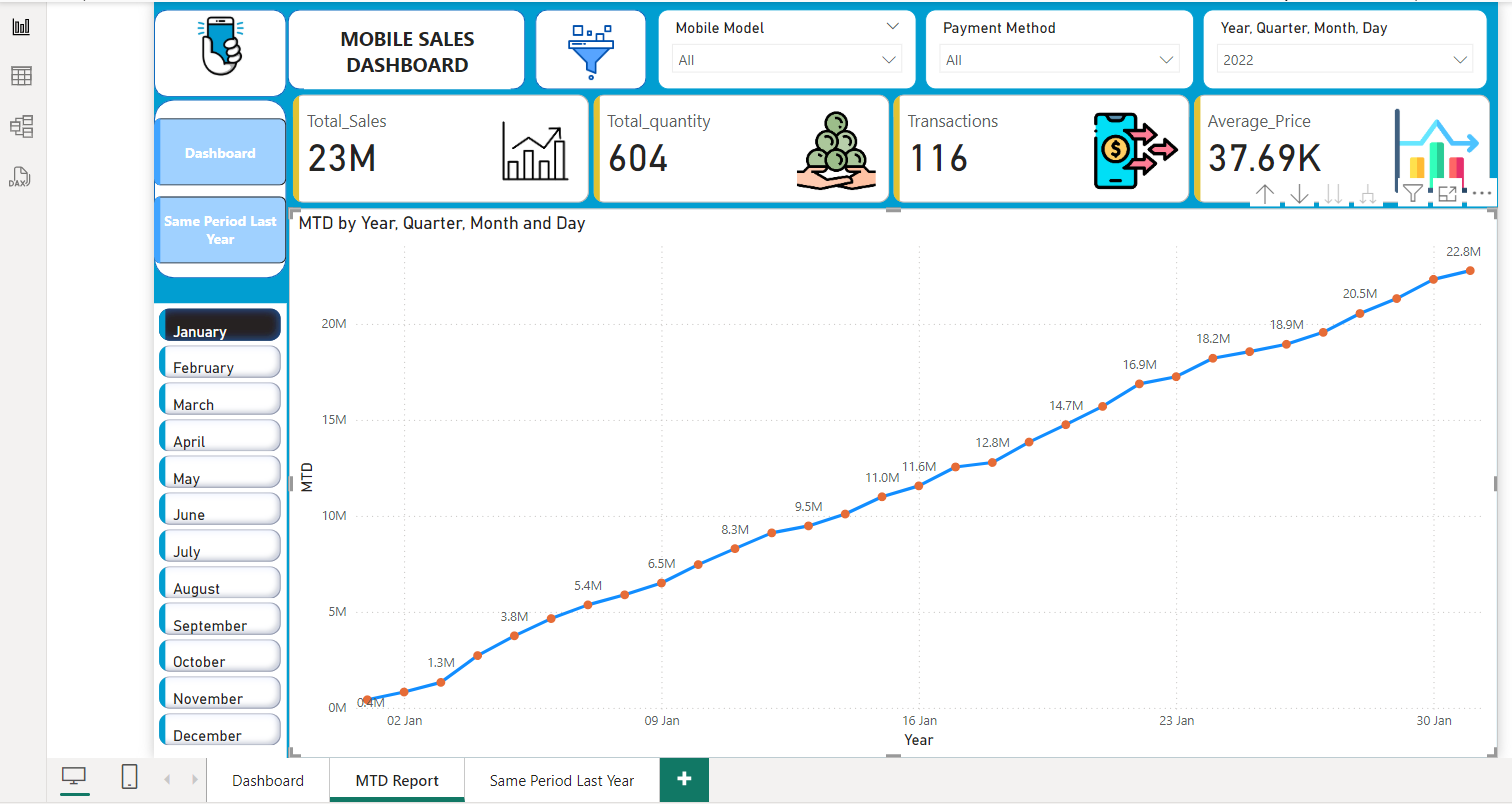

What the dashboard file says about the page in this screenshot:
{"tool":"powerbi","page":{"name":"MTD Report","canvas":[1280,720],"ordinal":1},"visuals":[{"type":"shape","box":[0,7.1,126.2,83.3],"z":0},{"type":"image","box":[15.5,0,95.2,83.3],"z":1000},{"type":"shape","box":[0,92.9,126.2,170.2],"z":2000},{"type":"cardVisual","fields":{"Data":["Mobile_Sales_data.Total_Sales","Mobile_Sales_data.Total_quantity","Mobile_Sales_data.Transactions","Mobile_Sales_data.Average_Price"]},"box":[127.4,83.3,1152.4,113.1],"z":3000},{"type":"slicer","fields":{"Values":["Mobile_Sales_data.Mobile Model"]},"box":[479.8,7.1,246.4,76.2],"z":4000},{"type":"slicer","fields":{"Values":["Mobile_Sales_data.Payment Method"]},"box":[734.5,7.1,256,76.2],"z":5000},{"type":"shape","box":[127.4,7.1,226.2,76.2],"z":6000},{"type":"slicer","fields":{"Values":["Custom_Calender.Date.Variation.Date Hierarchy.Year","Custom_Calender.Date.Variation.Date Hierarchy.Quarter","Custom_Calender.Date.Variation.Date Hierarchy.Month","Custom_Calender.Date.Variation.Date Hierarchy.Day"]},"box":[998.8,7.1,271.4,76.2],"z":7000},{"type":"shape","box":[363.1,7.1,106,76.2],"z":8000},{"type":"image","box":[353.6,16.7,126.2,63.1],"z":9000},{"type":"textbox","box":[142.9,16.7,196.4,66.7],"z":10000},{"type":"lineChart","fields":{"Y":["Mobile_Sales_data.MTD"],"Category":["Custom_Calender.Date.Variation.Date Hierarchy.Year","Custom_Calender.Date.Variation.Date Hierarchy.Quarter","Custom_Calender.Date.Variation.Date Hierarchy.Month","Custom_Calender.Date.Variation.Date Hierarchy.Day"]},"box":[128.6,196.4,1151.2,523.8],"z":11000},{"type":"advancedSlicerVisual","fields":{"Values":["Custom_Calender.Date.Variation.Date Hierarchy.Month"]},"box":[0,286.7,126.2,433.3],"z":12000},{"type":"pageNavigator","box":[0,110.7,126.2,138.1],"z":13000}]}

Visuals, with their boxes on the page's 1280x720 design canvas (x1, y1, x2, y2). These are canvas units, not pixel positions in the 1512x804 screenshot, which may show the page scaled, cropped or inside an application window:
shape: select_region(0, 7, 126, 90)
image: select_region(16, 0, 111, 83)
shape: select_region(0, 93, 126, 263)
cardVisual - Mobile_Sales_data.Total_Sales x Mobile_Sales_data.Total_quantity: select_region(127, 83, 1280, 196)
slicer - Mobile_Sales_data.Mobile Model: select_region(480, 7, 726, 83)
slicer - Mobile_Sales_data.Payment Method: select_region(734, 7, 990, 83)
shape: select_region(127, 7, 354, 83)
slicer - Custom_Calender.Date.Variation.Date Hierarchy.Year x Custom_Calender.Date.Variation.Date Hierarchy.Quarter: select_region(999, 7, 1270, 83)
shape: select_region(363, 7, 469, 83)
image: select_region(354, 17, 480, 80)
textbox: select_region(143, 17, 339, 83)
lineChart - Mobile_Sales_data.MTD x Custom_Calender.Date.Variation.Date Hierarchy.Year: select_region(129, 196, 1280, 720)
advancedSlicerVisual - Custom_Calender.Date.Variation.Date Hierarchy.Month: select_region(0, 287, 126, 720)
pageNavigator: select_region(0, 111, 126, 249)
